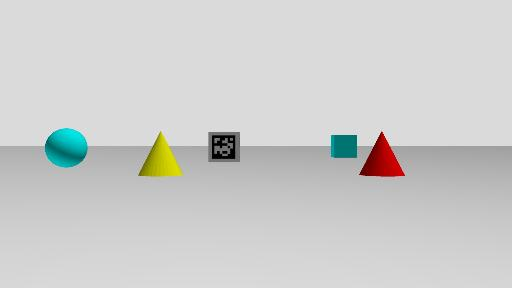red_cone: (358, 130, 405, 177)
yellow_cone: (137, 131, 184, 177)
